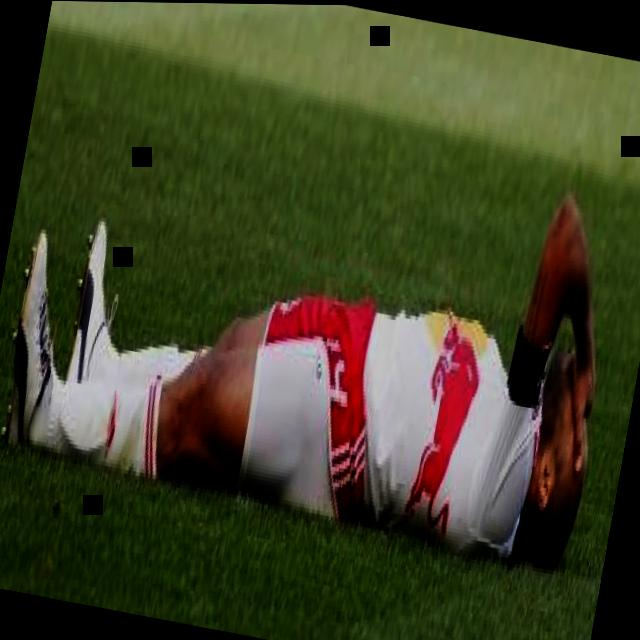Fall-Detected: (0, 0, 640, 605)
